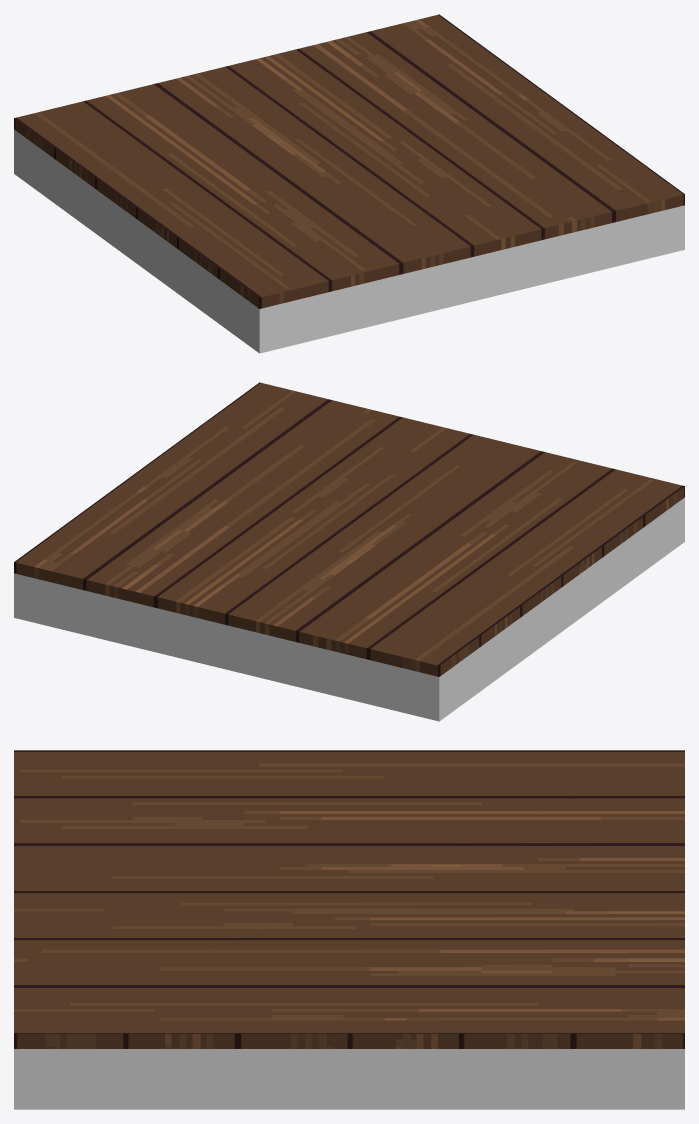
Rendered from SM_floor_01_quarter.glb.
The picture shows the model from 3 angles, top to bottom: view 1: azimuth 30°, elevation 25°; view 2: azimuth 150°, elevation 25°; view 3: azimuth 270°, elevation 25°; orthographic projection. The views are drawn at different scales.
Visible parts, largest first — view 1: SM_floor_01_quarter; view 2: SM_floor_01_quarter; view 3: SM_floor_01_quarter.
Part boxes in pixels (x1,y1,x2,y2): SM_floor_01_quarter: (14,14,684,353); SM_floor_01_quarter: (14,382,684,721); SM_floor_01_quarter: (14,750,684,1109).
Bounding box in the file's own units: 2 × 0.25 × 2.
2 materials, 1 textured.
